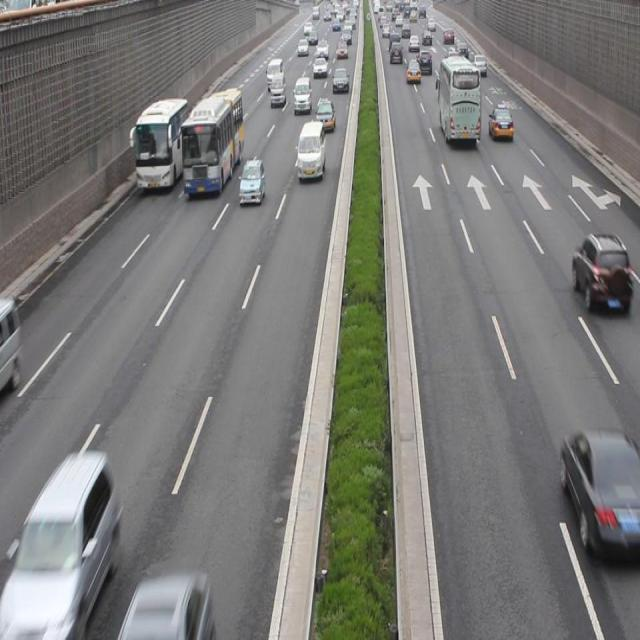car: (12, 453, 118, 629), (560, 430, 640, 566), (572, 233, 628, 315), (238, 158, 265, 208), (488, 106, 513, 141)
truck: (297, 122, 325, 185)
van: (180, 92, 244, 197), (136, 101, 188, 192), (437, 55, 480, 143)
